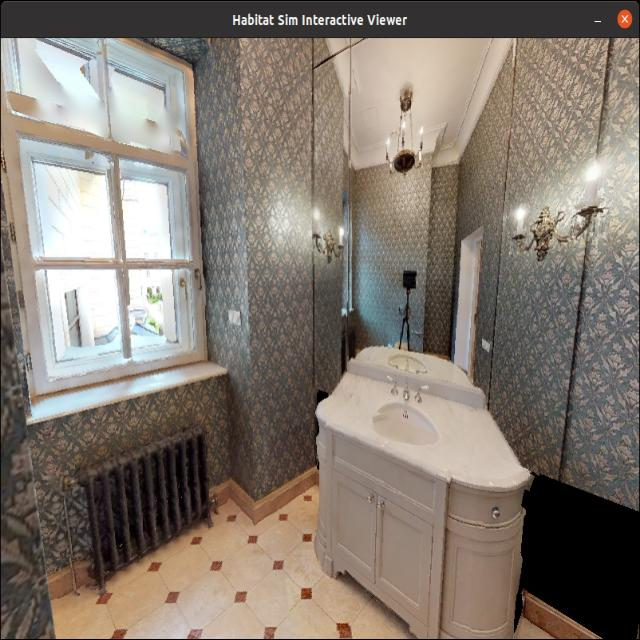sink: (312, 317, 536, 613)
